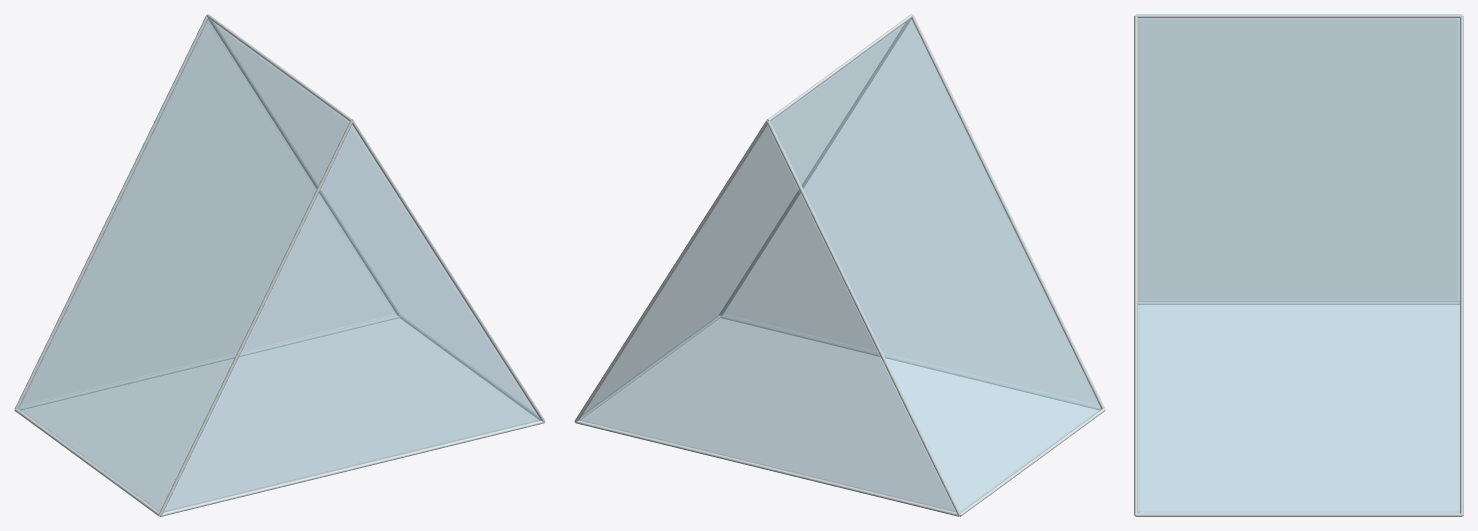
Rendered from prism.glb.
3 renders of one model, left to right at view 1: azimuth 30°, elevation 25°; view 2: azimuth 150°, elevation 25°; view 3: azimuth 270°, elevation 25°, orthographic. The views are drawn at different scales.
Visible parts, largest first — view 1: optical_prism.001, prism_Printed_traces.003; view 2: optical_prism.001, prism_Printed_traces.003; view 3: optical_prism.001, prism_Printed_traces.003.
Part boxes in pixels (x1,y1,x2,y2): optical_prism.001: [19, 19, 540, 512]; prism_Printed_traces.003: [14, 14, 545, 516]; optical_prism.001: [579, 19, 1100, 512]; prism_Printed_traces.003: [574, 14, 1105, 516]; optical_prism.001: [1138, 18, 1459, 512]; prism_Printed_traces.003: [1134, 14, 1463, 516].
Bounding box in the file's own units: 2.02 × 1.75 × 1.32.
